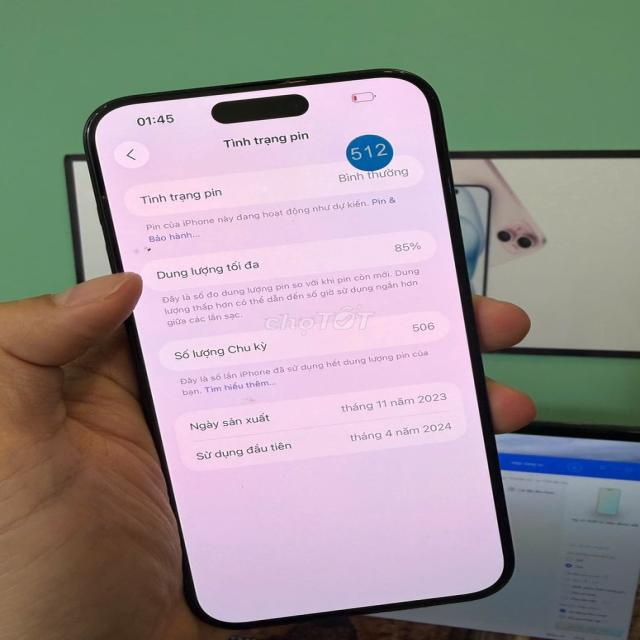gen_15: (70, 65, 522, 639)
